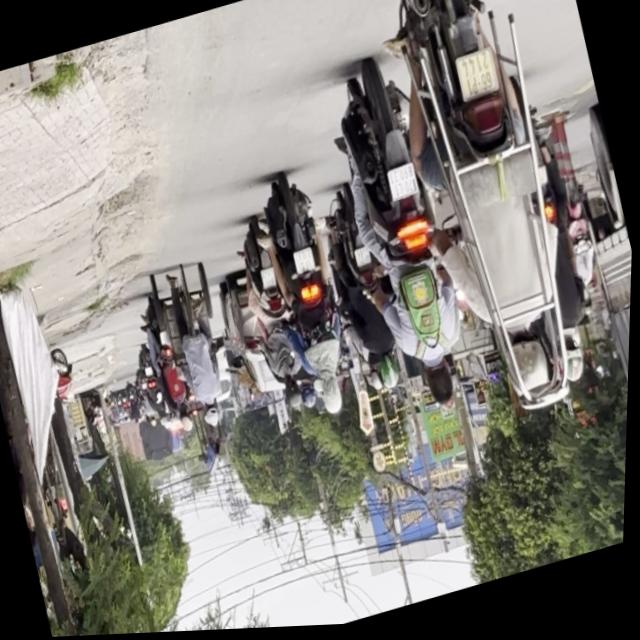helmet: (315, 369, 346, 410), (320, 380, 349, 421), (378, 353, 406, 395)
licenseplate: (354, 0, 615, 433), (309, 49, 492, 432), (248, 167, 371, 431), (310, 185, 413, 404)
motorcyclist: (420, 356, 462, 413)
nohelmet: (454, 52, 501, 105), (386, 166, 420, 204), (292, 248, 317, 277)
